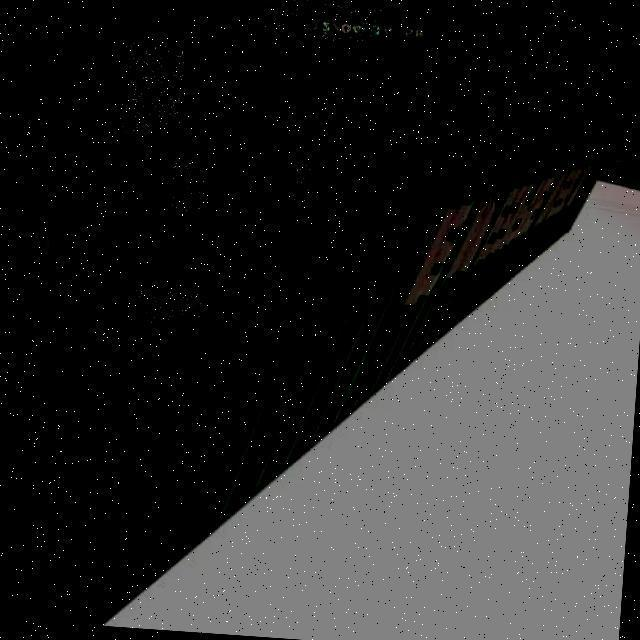rust: (119, 43, 190, 139), (322, 1, 384, 45), (131, 290, 203, 327), (170, 158, 210, 215), (261, 1, 308, 35), (291, 163, 314, 208)
